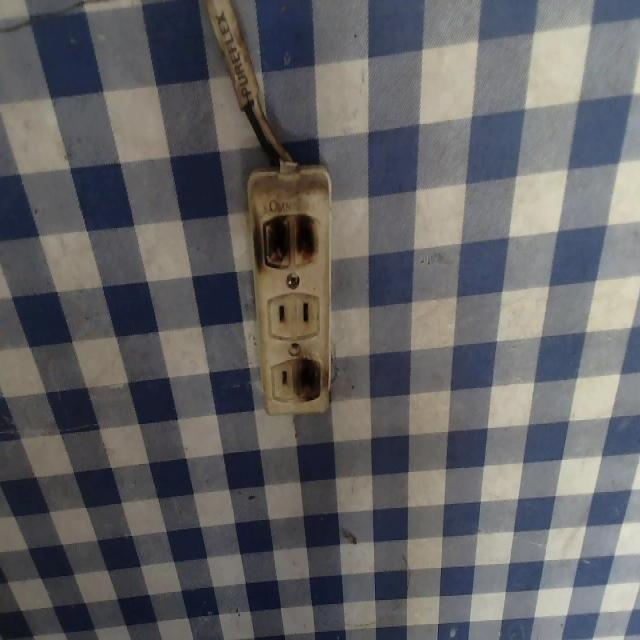-: (250, 208, 321, 273), (293, 352, 325, 404)
